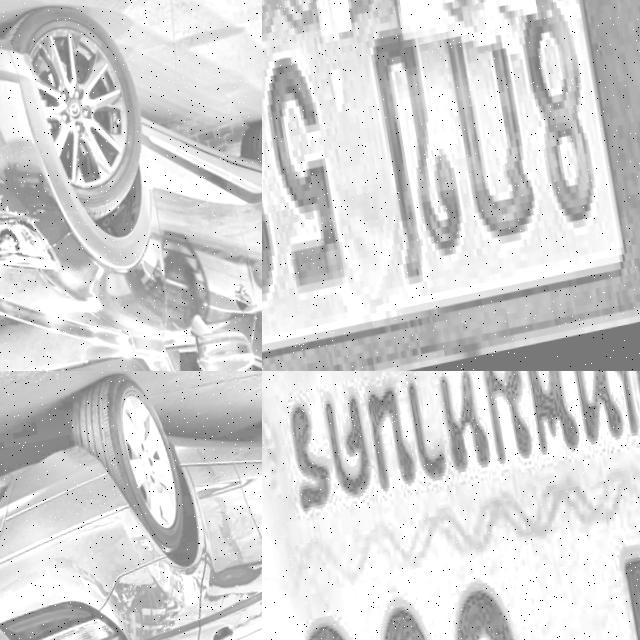license-plate: (262, 0, 640, 371), (262, 371, 640, 640)
